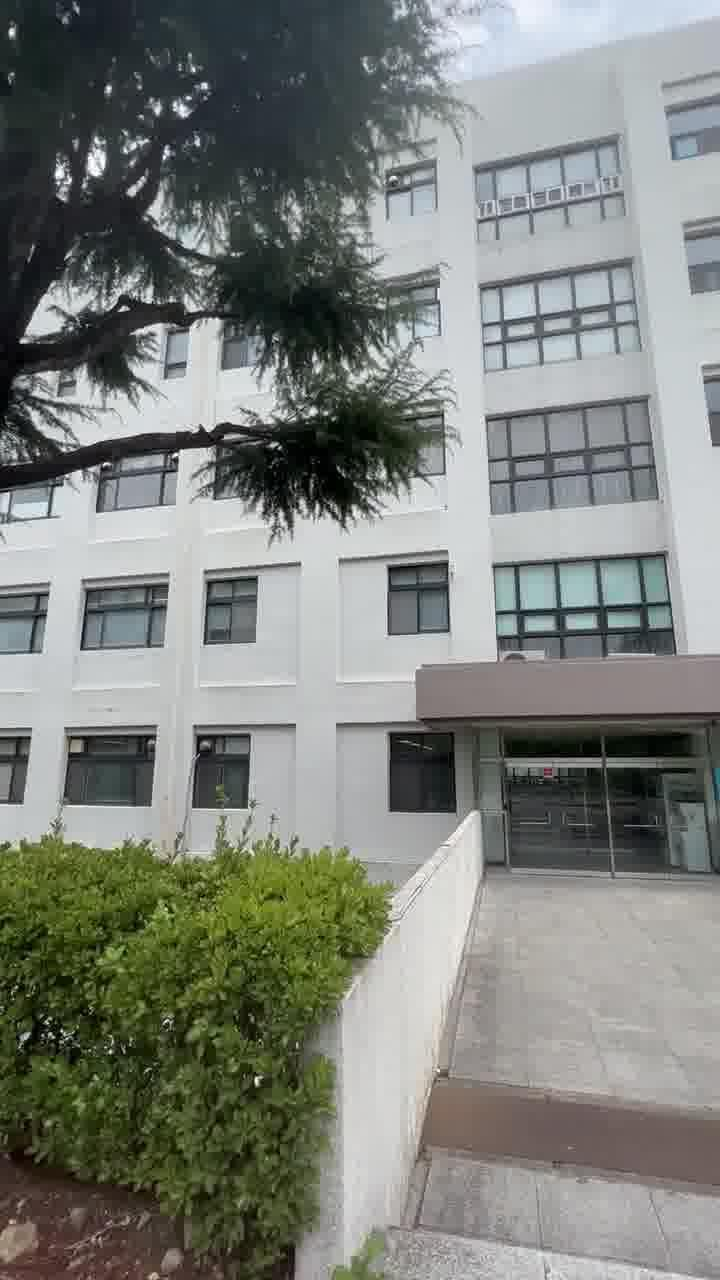building: (434, 128, 720, 870)
